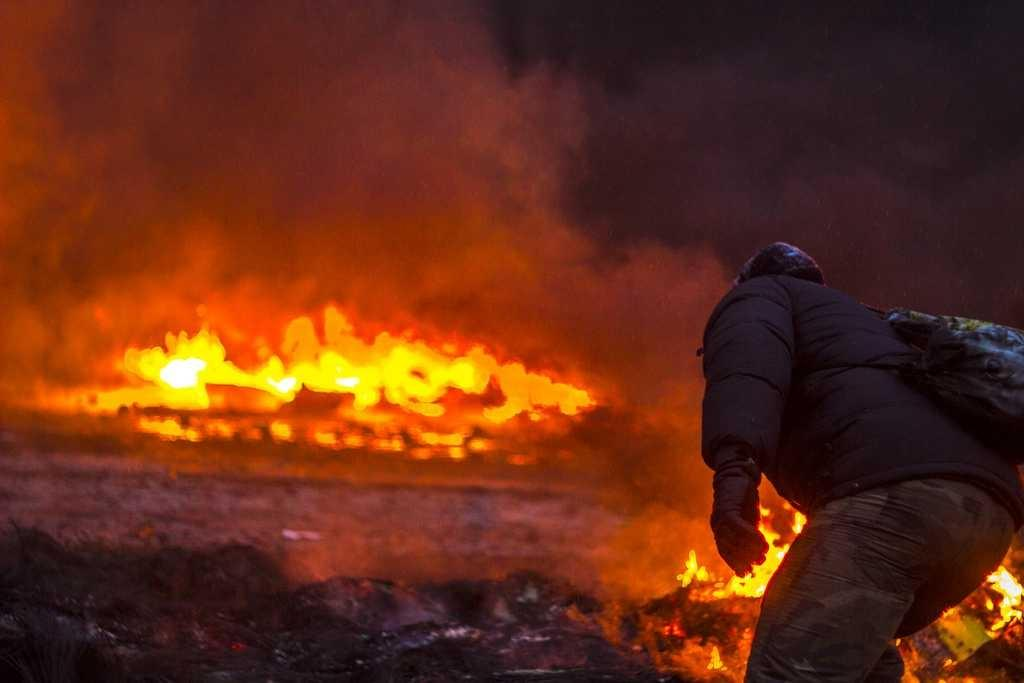fire: (93, 30, 473, 267), (157, 353, 485, 387)
